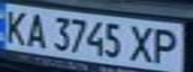3: (48, 14, 72, 53)
4: (84, 18, 109, 56)
5: (103, 19, 127, 60)
7: (66, 16, 87, 54)
A: (21, 10, 48, 49)
K: (0, 7, 30, 45)
P: (148, 25, 187, 65)
X: (124, 21, 160, 64)
